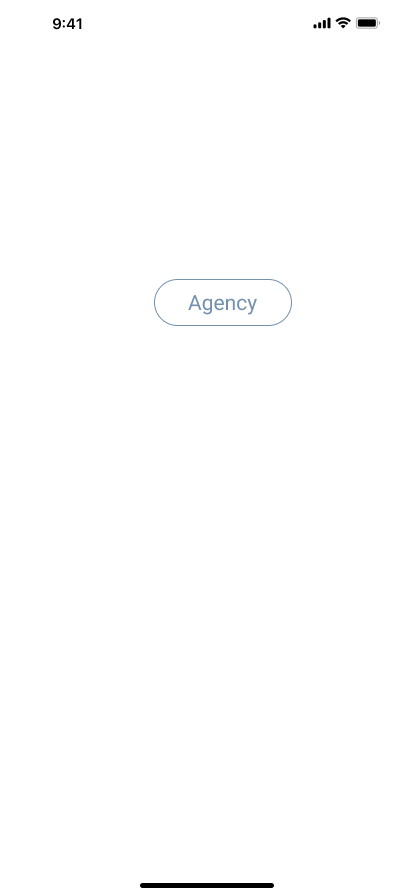Buttons: (154, 279, 300, 326)
Home Indicator: (0, 862, 414, 896)
Status Bar: (0, 0, 414, 44)
